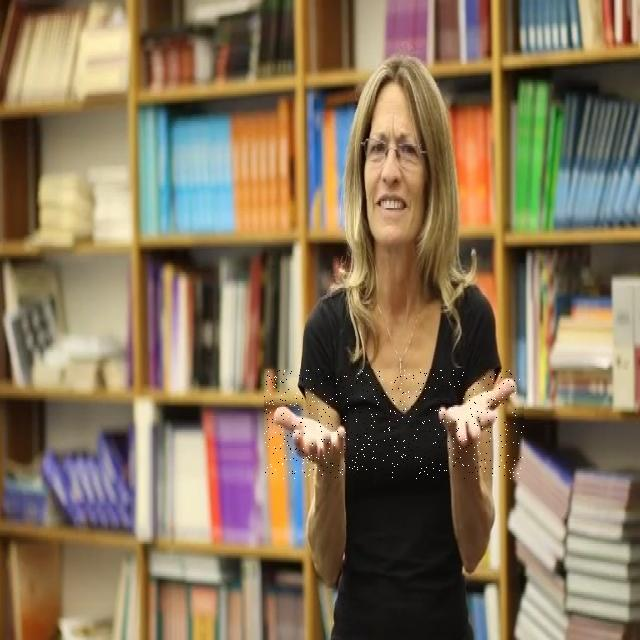what: (264, 370, 524, 480)
